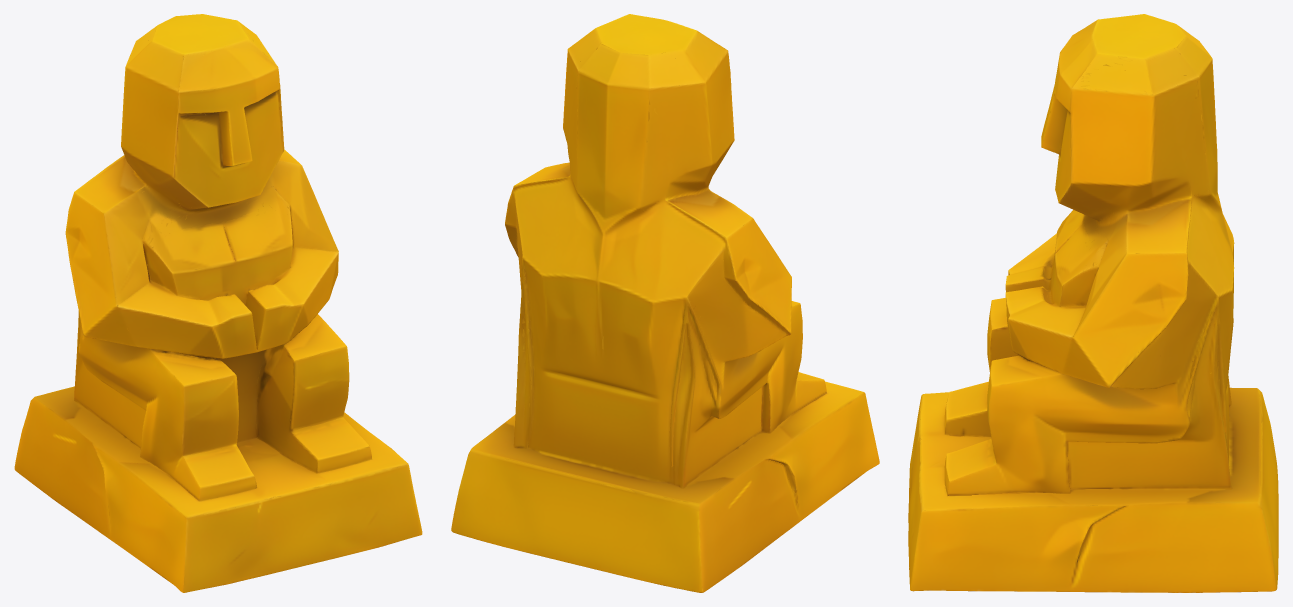
Rendered from base_basic_shaded.fbx.
3 renders of one model, left to right at view 1: azimuth 30°, elevation 25°; view 2: azimuth 150°, elevation 25°; view 3: azimuth 270°, elevation 25°, orthographic. The views are drawn at different scales.
Visible parts, largest first — view 1: model; view 2: model; view 3: model.
Part boxes in pixels (left/top/right/bottom): model: left=14, top=14, right=422, bottom=592; model: left=451, top=14, right=879, bottom=592; model: left=908, top=14, right=1278, bottom=592.
Bounding box in the file's own units: 110 × 190 × 128.
